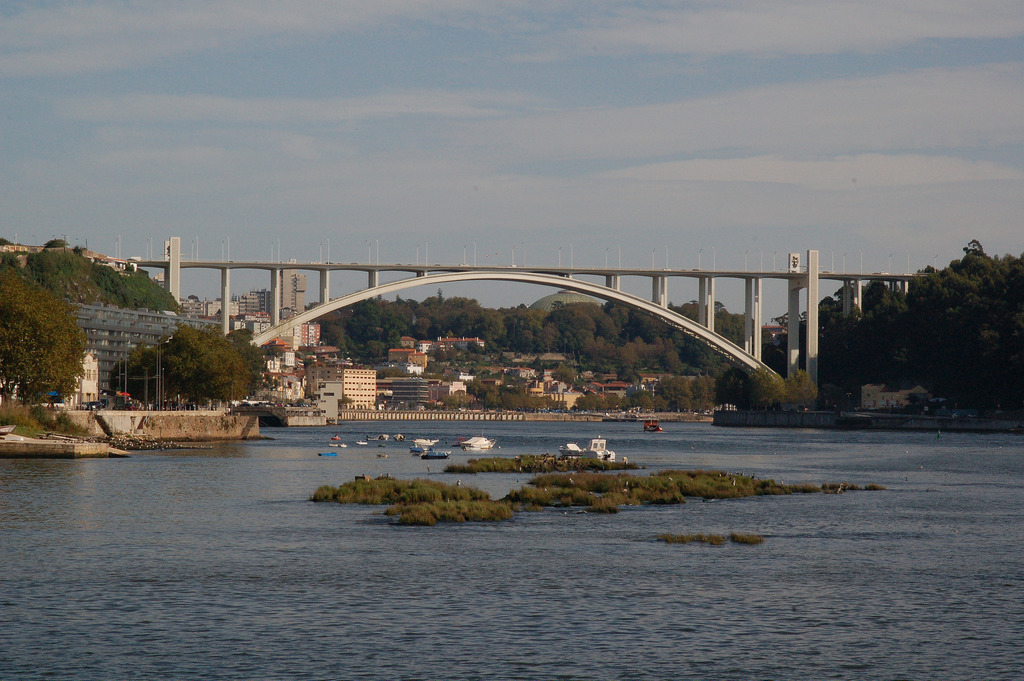arrabida: (123, 238, 913, 411)
